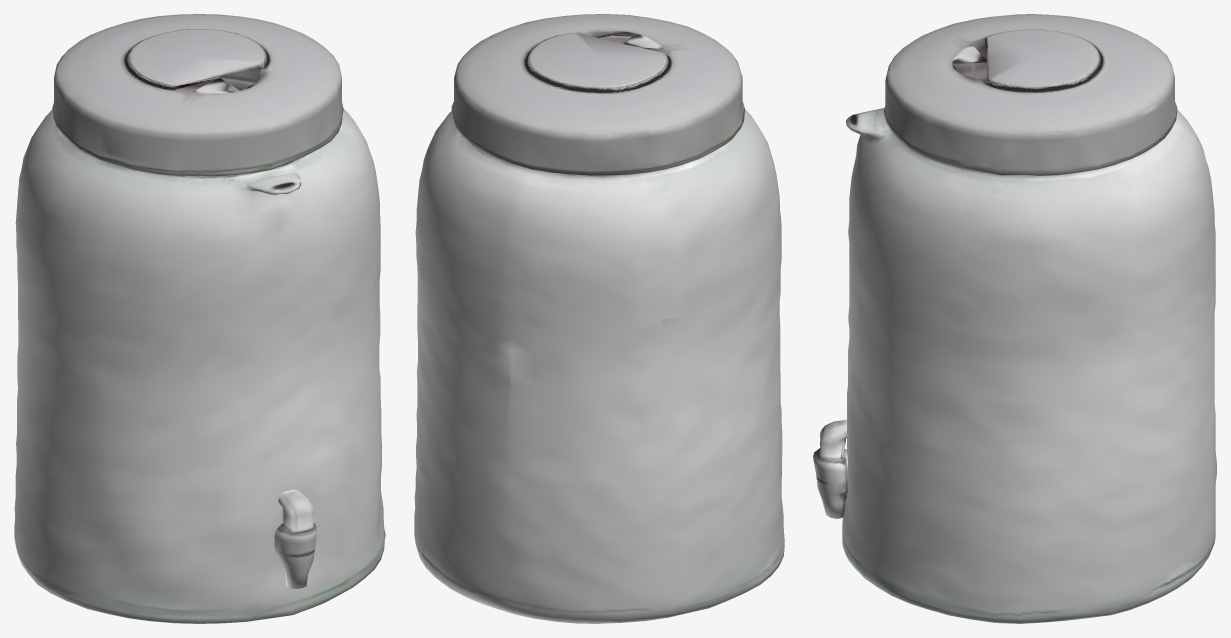
File: Beverage_Dispenser_0308230414_texture.glb
3 views of the same model, side by side, from view 1: azimuth 30°, elevation 25°; view 2: azimuth 150°, elevation 25°; view 3: azimuth 270°, elevation 25° (orthographic).
Visible parts, largest first — view 1: Mesh_0.005; view 2: Mesh_0.005; view 3: Mesh_0.005.
Boxes of the visible parts, x1=… form: Mesh_0.005: x1=14, y1=14, x2=385, y2=623; Mesh_0.005: x1=414, y1=14, x2=784, y2=623; Mesh_0.005: x1=813, y1=14, x2=1216, y2=623.
Bounding box in the file's own units: 0.2574 × 0.381 × 0.2793.
1 material, 1 textured.
